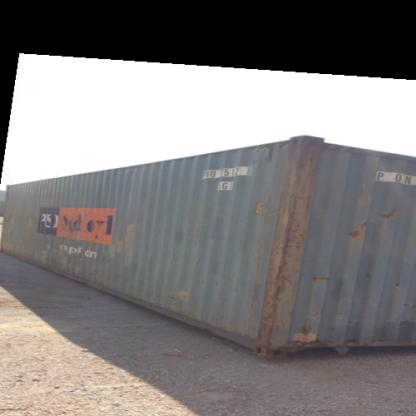Damage: (274, 149, 306, 307), (36, 244, 88, 275), (246, 311, 288, 344), (300, 306, 325, 344), (347, 213, 372, 242), (246, 255, 260, 302), (120, 210, 141, 240), (343, 317, 364, 347), (377, 203, 402, 224), (137, 280, 161, 301), (308, 267, 336, 284), (62, 218, 84, 238), (167, 286, 188, 305), (360, 263, 376, 283), (3, 210, 14, 233), (389, 276, 404, 290)
